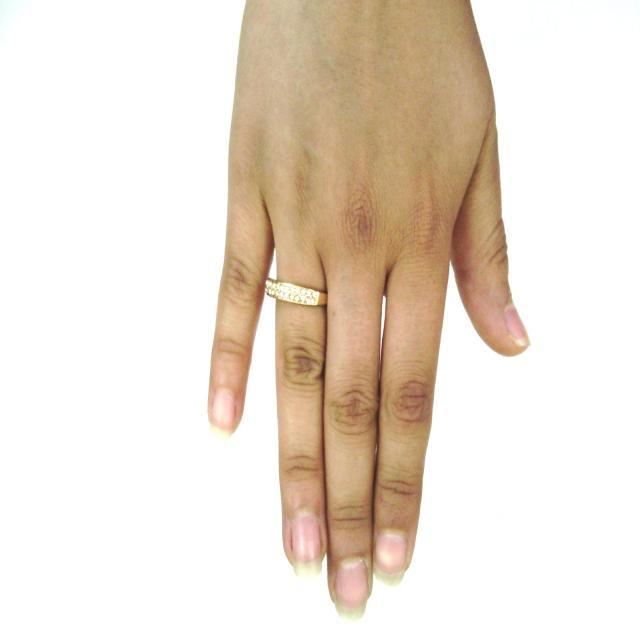Fingernail: (291, 510, 322, 577), (336, 559, 369, 619), (375, 534, 408, 587), (210, 389, 236, 440), (504, 304, 529, 345)
